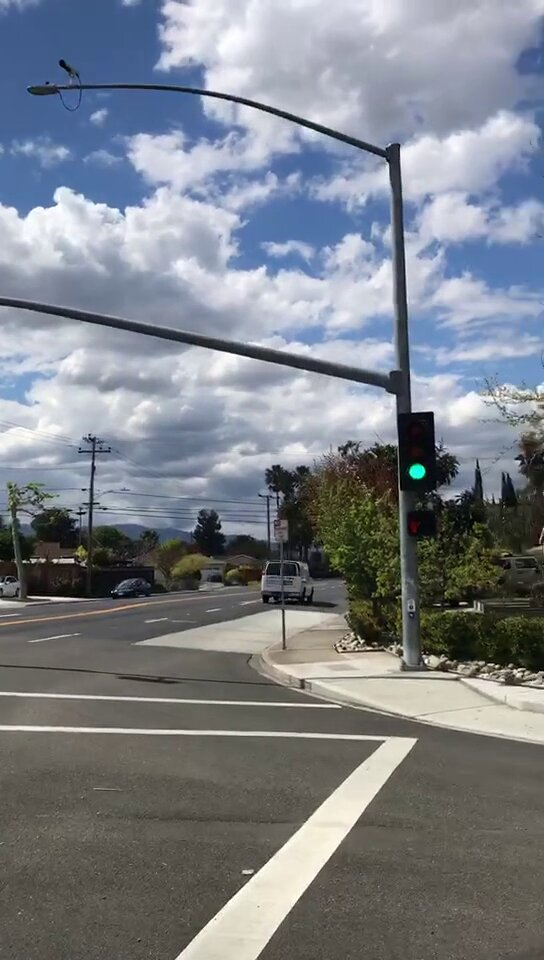green_light: (400, 415, 433, 494)
